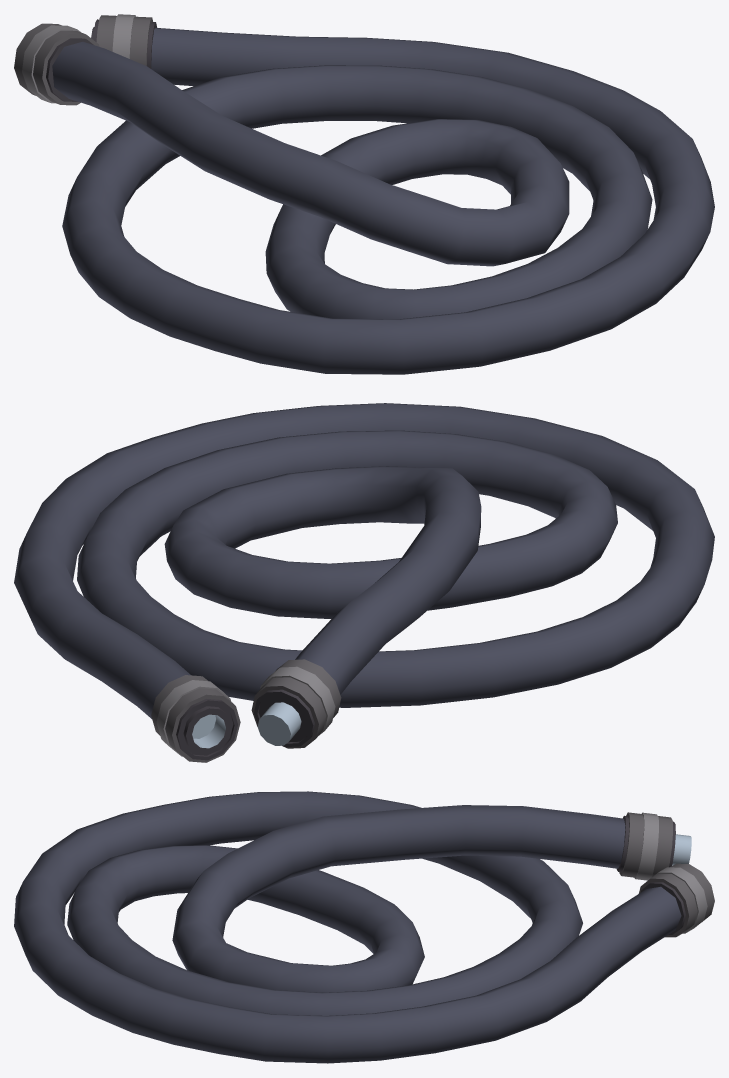
The model's file is SM_Building_Decor_01.fbx.
3 renders of one model, top to bottom at view 1: azimuth 30°, elevation 25°; view 2: azimuth 150°, elevation 25°; view 3: azimuth 270°, elevation 25°, orthographic. The views are drawn at different scales.
Visible parts, largest first — view 1: SM_Building_Decor_01; view 2: SM_Building_Decor_01; view 3: SM_Building_Decor_01.
Part boxes in pixels (x1,y1,x2,y2): SM_Building_Decor_01: (14,14,714,374); SM_Building_Decor_01: (14,403,714,762); SM_Building_Decor_01: (14,791,714,1063).
Bounding box in the file's own units: 0.9197 × 0.158 × 1.11.
